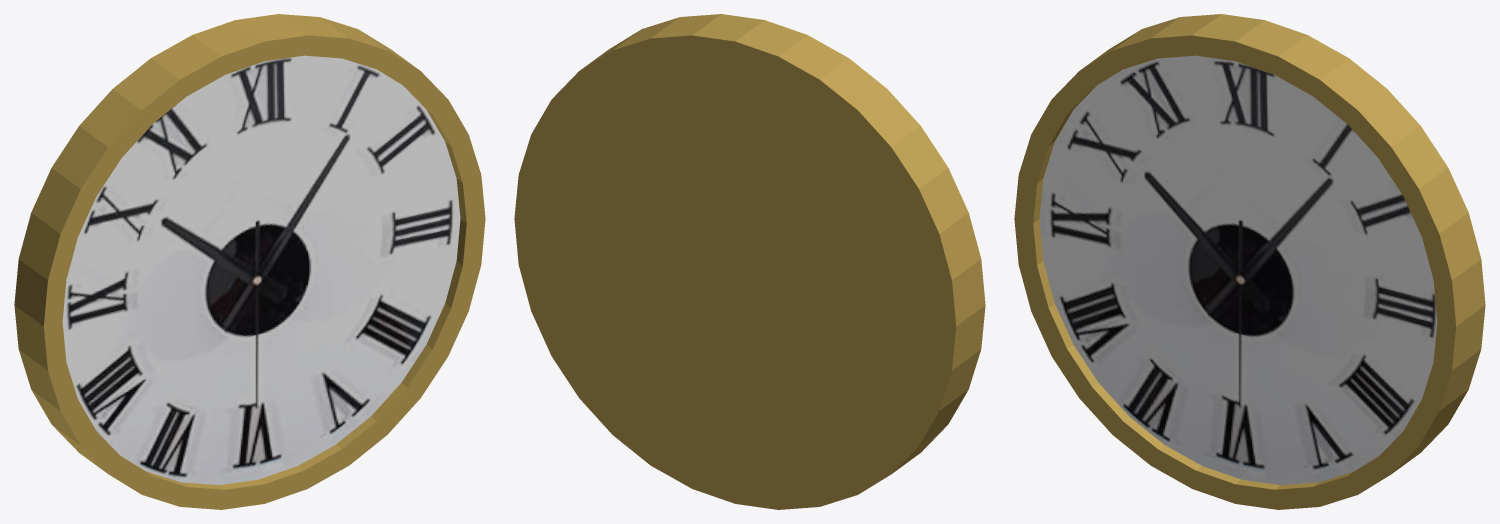
The model's file is saat.fbx.
3 renders of one model, left to right at view 1: azimuth 30°, elevation 25°; view 2: azimuth 150°, elevation 25°; view 3: azimuth 330°, elevation 25°, orthographic.
Parts seen in each view (by area): view 1: Cylinder; view 2: Cylinder; view 3: Cylinder.
Boxes of the visible parts, bbox=[...] form: Cylinder: bbox=[14, 14, 485, 509]; Cylinder: bbox=[514, 14, 985, 509]; Cylinder: bbox=[1014, 14, 1485, 509].
Bounding box in the file's own units: 200 × 200 × 23.01.
Materials: 2 (1 with a texture image).
